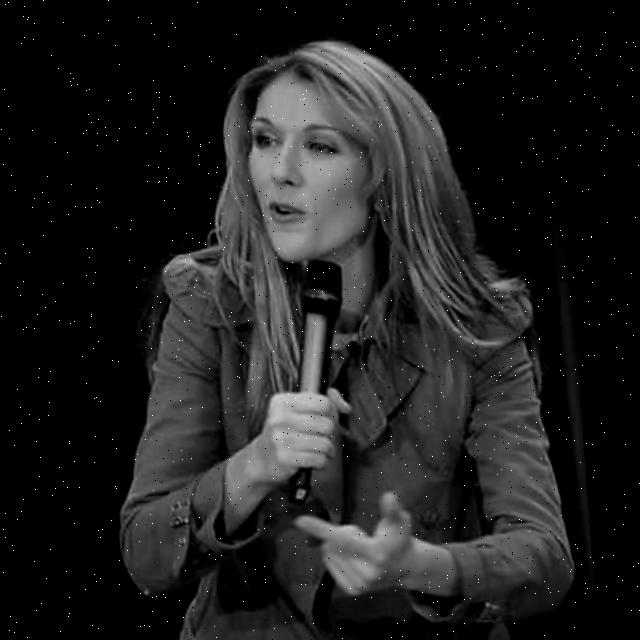face: (228, 60, 385, 267)
